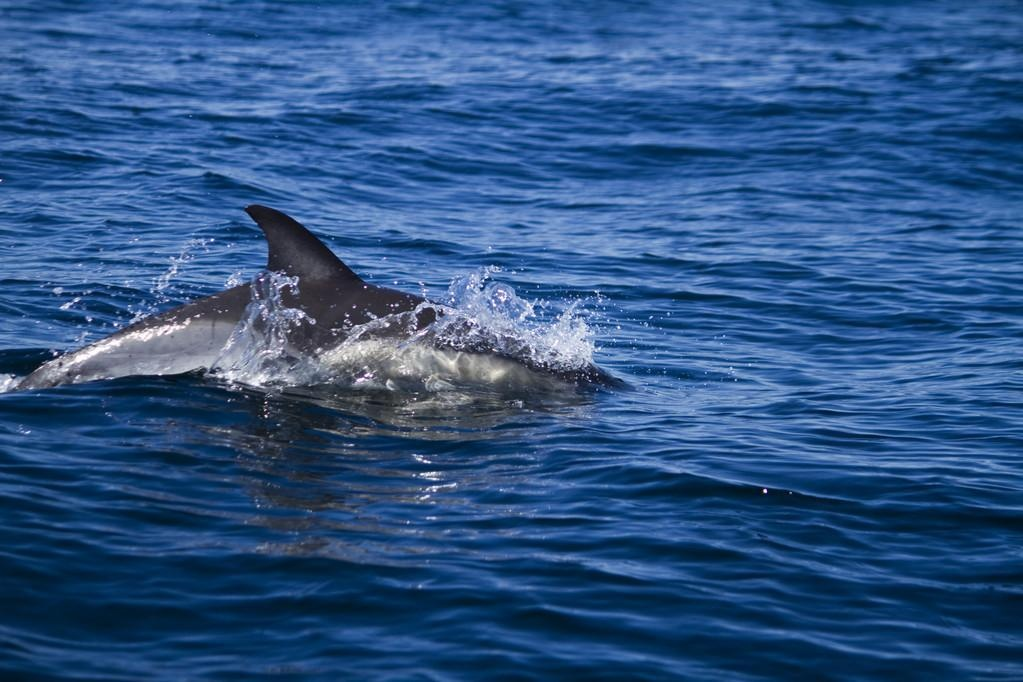fish: (6, 204, 645, 419)
